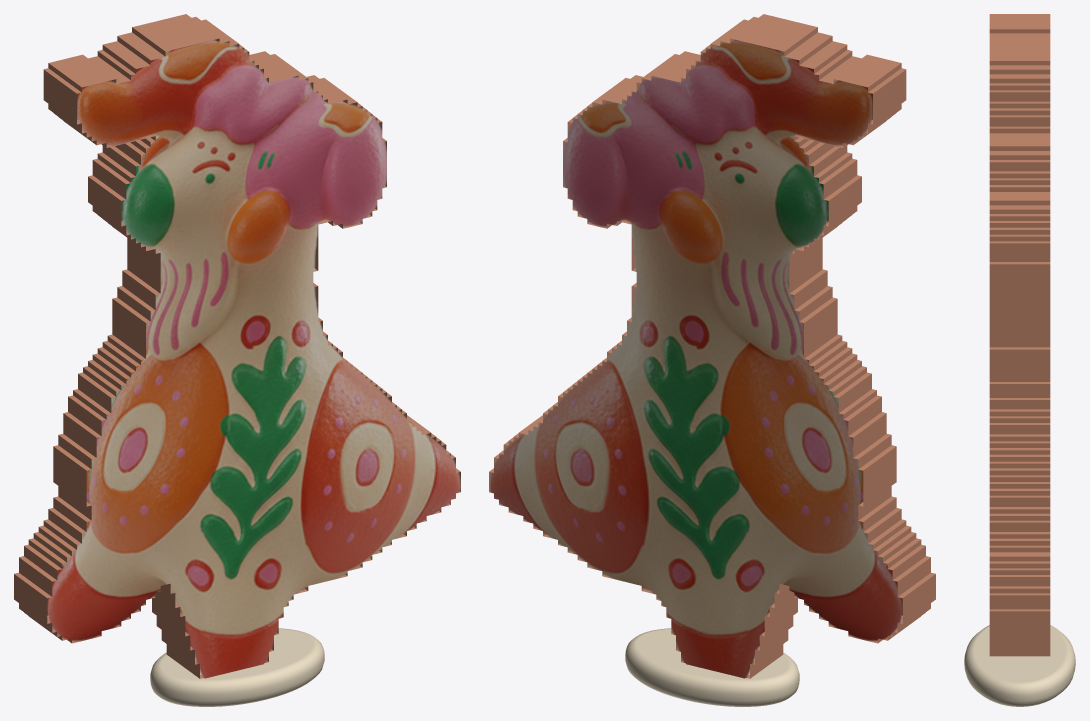
Rendered from ar-goat.glb.
3 renders of one model, left to right at view 1: azimuth 30°, elevation 25°; view 2: azimuth 150°, elevation 25°; view 3: azimuth 270°, elevation 25°, orthographic. The views are drawn at different scales.
Parts seen in each view (by area): view 1: ToyArtworkSilhouette, SmallRoundedDisplayFoot; view 2: ToyArtworkSilhouette, SmallRoundedDisplayFoot; view 3: ToyArtworkSilhouette, SmallRoundedDisplayFoot.
Part boxes in pixels (left/top/right/bottom): ToyArtworkSilhouette: left=14, top=14, right=460, bottom=678; SmallRoundedDisplayFoot: left=150, top=628, right=324, bottom=706; ToyArtworkSilhouette: left=489, top=14, right=935, bottom=678; SmallRoundedDisplayFoot: left=625, top=628, right=799, bottom=706; ToyArtworkSilhouette: left=989, top=14, right=1050, bottom=656; SmallRoundedDisplayFoot: left=964, top=625, right=1075, bottom=706.
Size of the model in its own units: 0.1319 by 0.202 by 0.034.
Materials: 3 (1 with a texture image).
